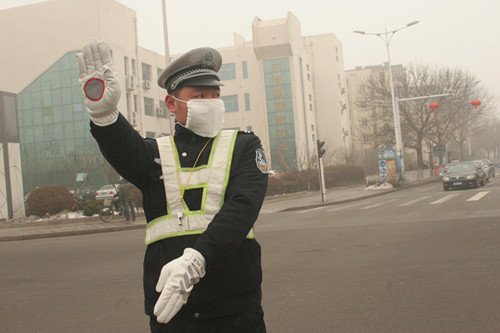face_mask: (176, 81, 222, 129)
